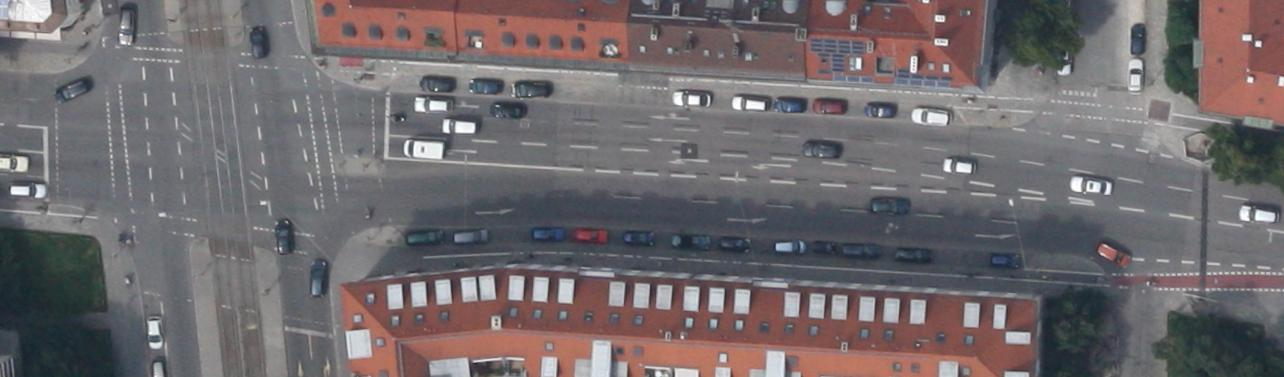car: (1095, 240, 1132, 269), (1068, 174, 1114, 196), (52, 78, 88, 105), (1237, 203, 1281, 225), (910, 106, 952, 126), (308, 259, 328, 298), (869, 196, 910, 215), (274, 217, 294, 255), (414, 96, 454, 114), (802, 140, 842, 158), (117, 7, 135, 46), (895, 246, 934, 264), (513, 80, 551, 98), (248, 24, 268, 58), (404, 229, 445, 245), (671, 233, 709, 250), (730, 96, 770, 112), (843, 243, 882, 259), (492, 101, 526, 119), (1126, 58, 1144, 92), (942, 158, 976, 176), (573, 227, 608, 244), (864, 101, 897, 119), (419, 76, 456, 92), (672, 92, 711, 107), (468, 78, 501, 95), (532, 226, 565, 243), (454, 228, 489, 244), (989, 252, 1020, 270), (813, 98, 847, 114), (774, 237, 806, 254), (441, 119, 477, 134), (720, 236, 750, 254), (9, 184, 46, 198), (622, 230, 654, 246), (774, 97, 806, 112), (148, 316, 162, 350), (1130, 24, 1145, 54), (812, 239, 836, 256)
